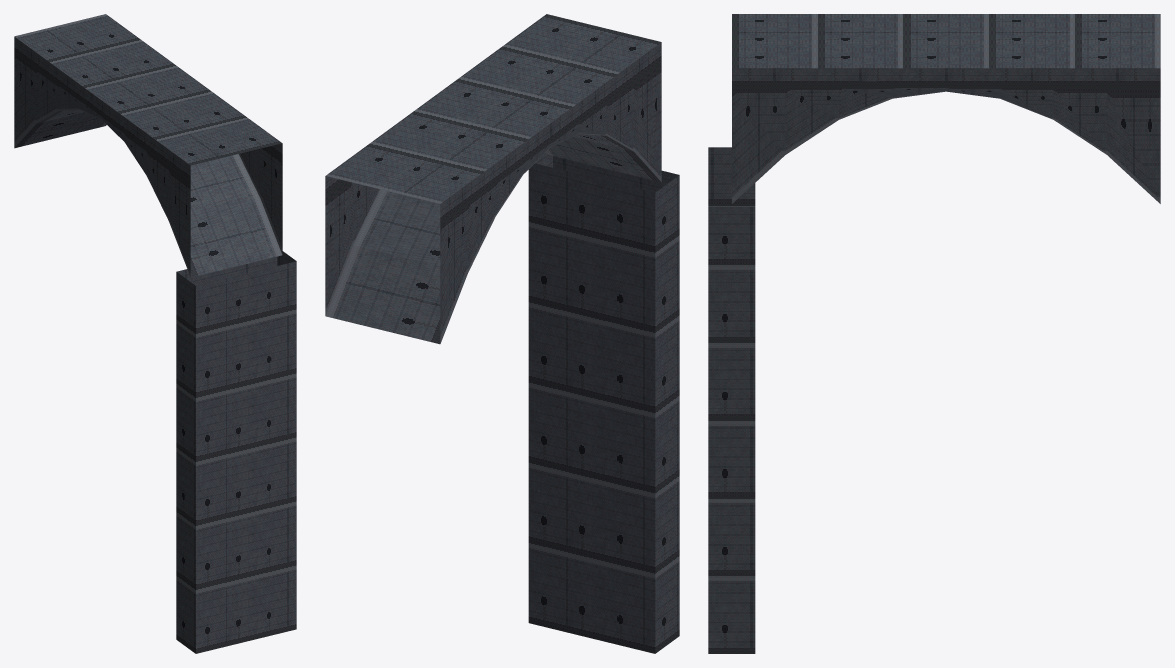
Rendered from mtn_old_span.glb.
3 renders of one model, left to right at view 1: azimuth 30°, elevation 25°; view 2: azimuth 150°, elevation 25°; view 3: azimuth 270°, elevation 25°, orthographic. The views are drawn at different scales.
Visible parts, largest first — view 1: mtn_old_span; view 2: mtn_old_span; view 3: mtn_old_span.
Part boxes in pixels (box(x1,y1,x2,y2)): mtn_old_span: box(14, 14, 296, 653); mtn_old_span: box(325, 14, 679, 653); mtn_old_span: box(708, 14, 1160, 653).
Bounding box in the file's own units: 6.6 × 30 × 21.1.
Materials: 1 (1 with a texture image).
